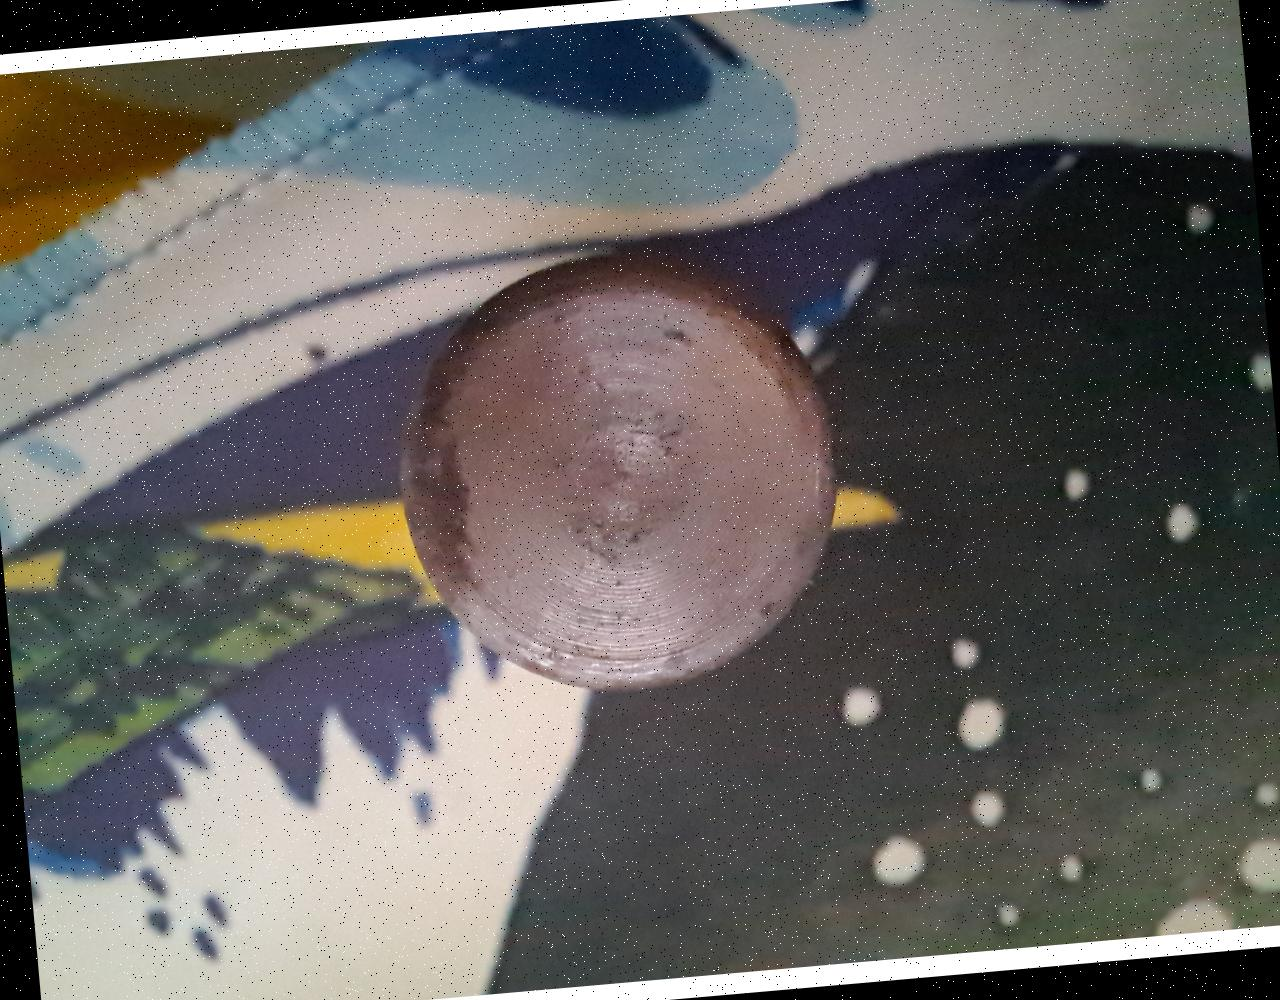planson: (396, 259, 839, 691)
